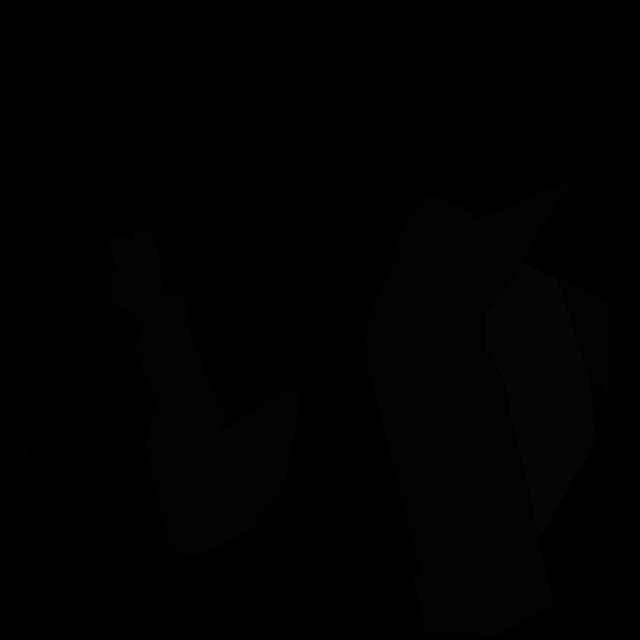cardboard: (365, 176, 581, 639), (144, 378, 300, 559), (105, 231, 225, 430), (558, 277, 610, 396)
rigid_plastic: (0, 387, 34, 481)
soft_plastic: (485, 263, 597, 538)
